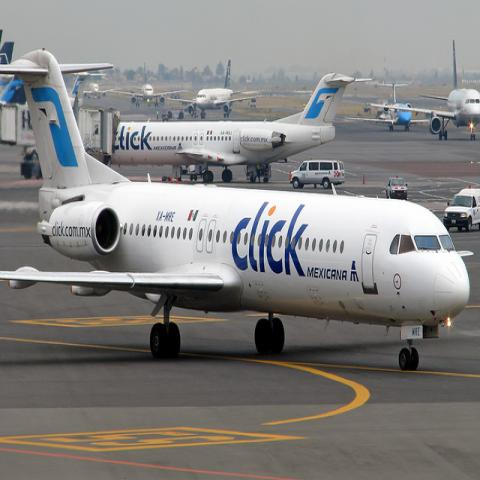car: (290, 159, 345, 189), (386, 175, 408, 200)
truck: (442, 185, 479, 234), (290, 160, 346, 190)
